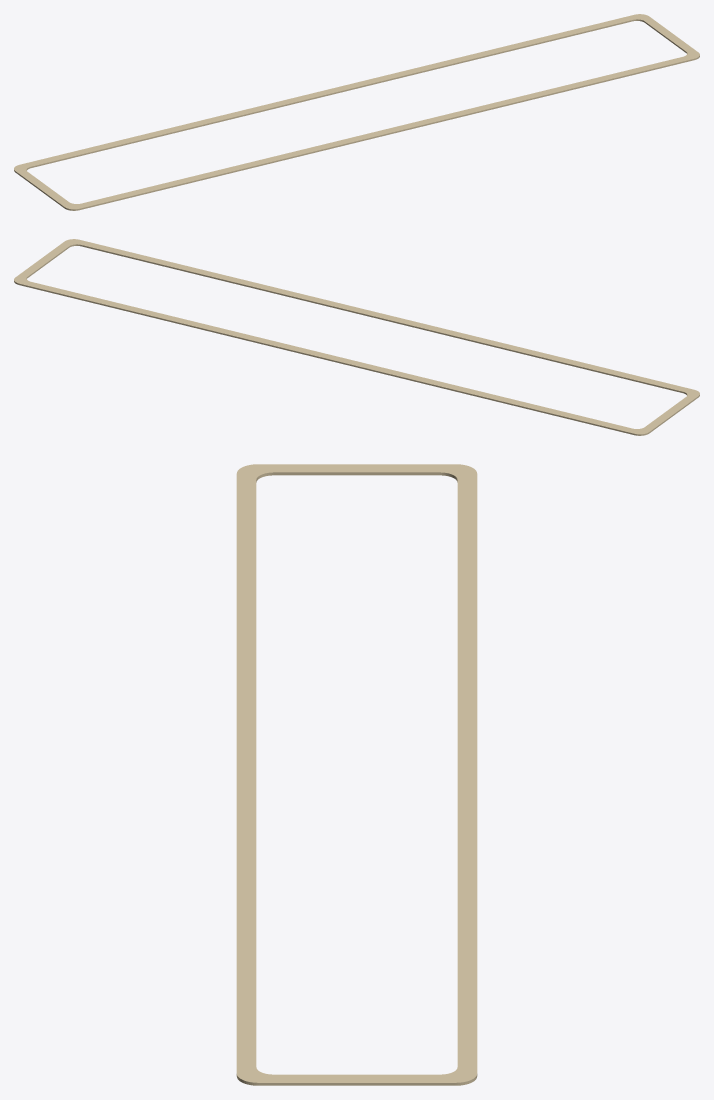
File: pushrod-cover-gasket.glb
3 renders of one model, top to bottom at view 1: azimuth 30°, elevation 25°; view 2: azimuth 150°, elevation 25°; view 3: azimuth 270°, elevation 25°, orthographic. The views are drawn at different scales.
Visible parts, largest first — view 1: world; view 2: world; view 3: world.
Boxes of the visible parts, x1,y1,x2,y2 form: world: [14, 14, 699, 210]; world: [14, 239, 699, 435]; world: [236, 464, 477, 1085].
Size of the model in its own units: 0.67 by 0.0015 by 0.11.
